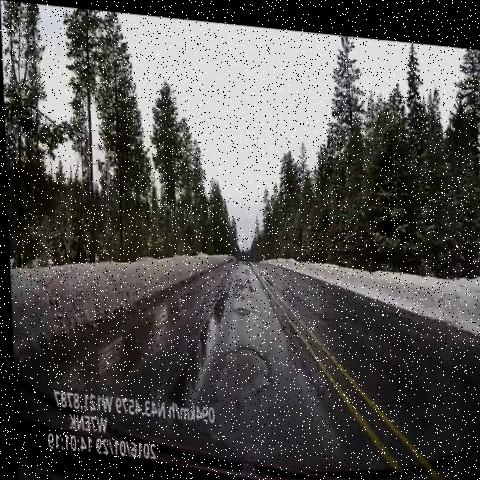pothole: (193, 325, 278, 440), (224, 292, 259, 331), (225, 254, 250, 300)
